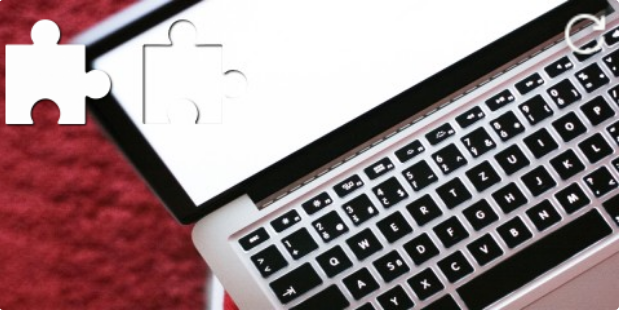target: (143, 20, 247, 123)
